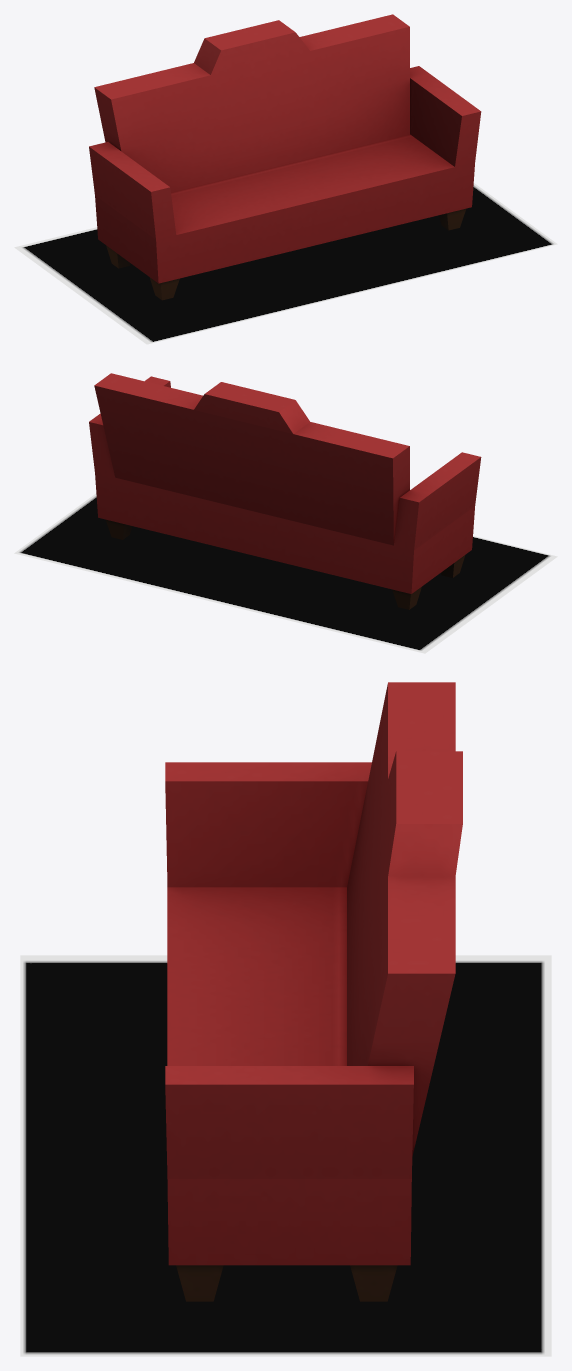
Rendered from 3x1_couch.FBX.
3 renders of one model, top to bottom at view 1: azimuth 30°, elevation 25°; view 2: azimuth 150°, elevation 25°; view 3: azimuth 270°, elevation 25°, orthographic. The views are drawn at different scales.
Parts seen in each view (by area): view 1: 3x1_couch, 3x1_couch_soft_shadow; view 2: 3x1_couch, 3x1_couch_soft_shadow; view 3: 3x1_couch, 3x1_couch_soft_shadow.
Part boxes in pixels (bbox=[...]): 3x1_couch: bbox=[89, 14, 481, 300]; 3x1_couch_soft_shadow: bbox=[14, 183, 557, 344]; 3x1_couch: bbox=[89, 373, 481, 609]; 3x1_couch_soft_shadow: bbox=[14, 493, 557, 653]; 3x1_couch: bbox=[165, 682, 462, 1301]; 3x1_couch_soft_shadow: bbox=[20, 955, 551, 1356].
Size of the model in its own units: 2860 by 1237 by 1600.
